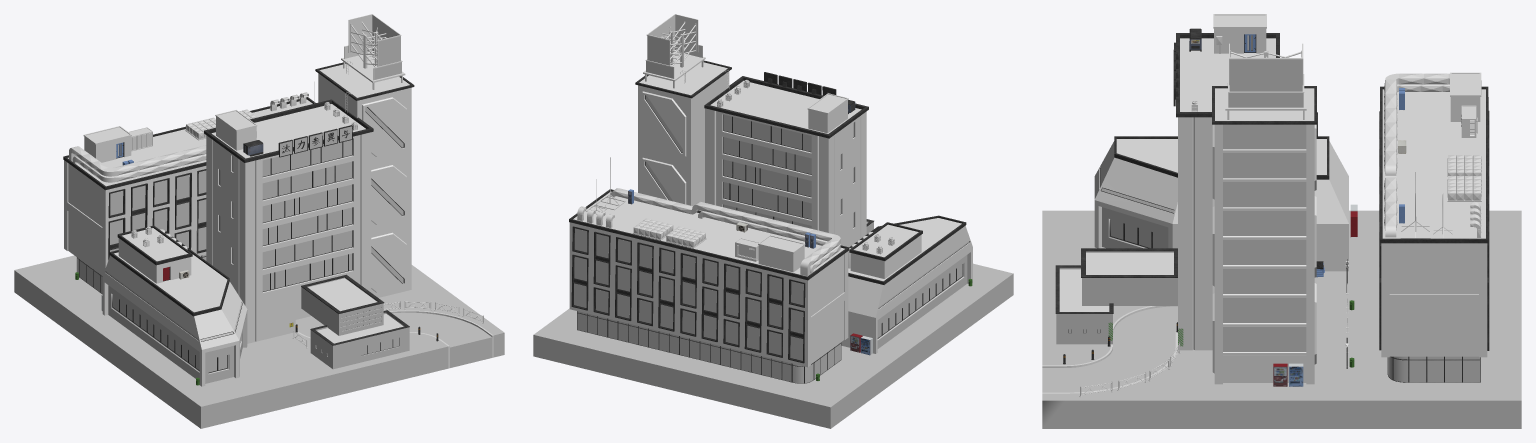
Rendered from KB3D_NTT_BldgSM_I.fbx.
3 renders of one model, left to right at view 1: azimuth 30°, elevation 25°; view 2: azimuth 150°, elevation 25°; view 3: azimuth 270°, elevation 25°, orthographic. The views are drawn at different scales.
Visible parts, largest first — view 1: KB3D_NTT_BldgSM_I_BuildingB, KB3D_NTT_BldgSM_I_Main, KB3D_NTT_BldgSM_I_BuildingF, KB3D_NTT_BldgSM_I_BuildingA, KB3D_NTT_BldgSM_I_BuildingD, KB3D_NTT_BldgSM_I_BuildingE, KB3D_NTT_BldgSM_I_BuildingG, KB3D_NTT_BldgSM_I_BuildingC; view 2: KB3D_NTT_BldgSM_I_BuildingF, KB3D_NTT_BldgSM_I_BuildingB, KB3D_NTT_BldgSM_I_Main, KB3D_NTT_BldgSM_I_BuildingA, KB3D_NTT_BldgSM_I_BuildingD, KB3D_NTT_BldgSM_I_BuildingG, KB3D_NTT_BldgSM_I_BuildingC; view 3: KB3D_NTT_BldgSM_I_Main, KB3D_NTT_BldgSM_I_BuildingF, KB3D_NTT_BldgSM_I_BuildingD, KB3D_NTT_BldgSM_I_BuildingB, KB3D_NTT_BldgSM_I_BuildingA, KB3D_NTT_BldgSM_I_BuildingE, KB3D_NTT_BldgSM_I_BuildingG.
Part boxes in pixels (x1,y1,x2,y2): KB3D_NTT_BldgSM_I_BuildingB: (204,99,373,343); KB3D_NTT_BldgSM_I_Main: (14,255,504,428); KB3D_NTT_BldgSM_I_BuildingF: (63,81,315,294); KB3D_NTT_BldgSM_I_BuildingA: (101,236,247,386); KB3D_NTT_BldgSM_I_BuildingD: (315,62,414,297); KB3D_NTT_BldgSM_I_BuildingE: (301,274,409,369); KB3D_NTT_BldgSM_I_BuildingG: (341,14,405,89); KB3D_NTT_BldgSM_I_BuildingC: (117,225,192,283); KB3D_NTT_BldgSM_I_BuildingF: (569,157,849,383); KB3D_NTT_BldgSM_I_BuildingB: (704,72,868,247); KB3D_NTT_BldgSM_I_Main: (533,263,1013,428); KB3D_NTT_BldgSM_I_BuildingA: (841,215,972,355); KB3D_NTT_BldgSM_I_BuildingD: (635,60,731,211); KB3D_NTT_BldgSM_I_BuildingG: (643,14,705,88); KB3D_NTT_BldgSM_I_BuildingC: (848,222,922,278); KB3D_NTT_BldgSM_I_Main: (1042,210,1521,428); KB3D_NTT_BldgSM_I_BuildingF: (1379,72,1489,382); KB3D_NTT_BldgSM_I_BuildingD: (1212,83,1316,386); KB3D_NTT_BldgSM_I_BuildingB: (1173,14,1279,350); KB3D_NTT_BldgSM_I_BuildingA: (1094,136,1357,277); KB3D_NTT_BldgSM_I_BuildingE: (1055,248,1177,344); KB3D_NTT_BldgSM_I_BuildingG: (1225,43,1306,119).
Bounding box in the file's own units: 4308 × 3712 × 4589.
